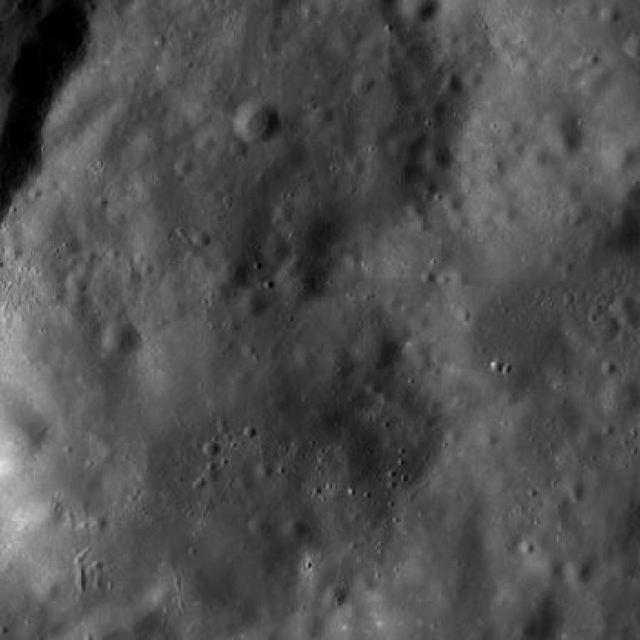crater: (57, 0, 460, 303), (508, 387, 578, 455), (489, 577, 560, 640), (0, 393, 48, 473), (275, 256, 331, 310), (536, 107, 584, 153), (590, 130, 636, 176), (236, 100, 282, 145), (354, 326, 398, 369), (600, 372, 640, 414), (104, 322, 141, 358), (122, 603, 158, 639), (218, 255, 252, 288), (238, 286, 271, 317), (128, 126, 161, 157), (397, 0, 440, 23), (262, 234, 292, 263), (580, 72, 609, 100), (424, 144, 452, 172), (612, 173, 640, 201), (294, 614, 322, 640), (328, 352, 356, 378), (580, 425, 606, 450), (403, 335, 429, 360), (284, 518, 308, 542), (566, 560, 592, 582), (323, 584, 346, 607), (398, 162, 422, 184), (541, 558, 564, 580), (596, 314, 618, 337), (66, 270, 89, 292), (596, 0, 618, 23), (294, 348, 316, 370), (42, 500, 64, 522), (528, 146, 550, 168), (558, 176, 580, 198), (406, 212, 428, 234), (566, 474, 588, 494), (612, 292, 634, 312), (350, 74, 372, 94), (312, 104, 334, 124), (496, 203, 518, 223), (193, 129, 214, 149), (517, 618, 537, 638), (274, 199, 294, 219), (251, 516, 271, 535), (621, 308, 640, 328), (443, 192, 463, 211), (571, 197, 591, 216), (176, 155, 195, 174), (44, 580, 64, 598), (70, 288, 88, 307), (228, 138, 247, 156), (5, 242, 24, 260), (452, 212, 470, 231), (360, 572, 378, 590), (388, 138, 406, 156), (192, 228, 211, 245), (445, 75, 463, 92), (490, 158, 508, 175), (92, 514, 110, 530), (350, 157, 368, 172), (466, 70, 482, 86), (408, 200, 426, 214), (110, 210, 126, 224), (0, 0, 2, 2)
